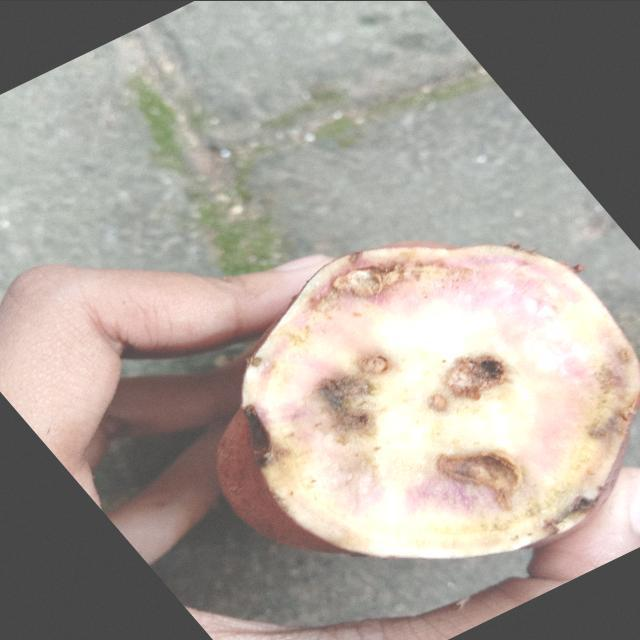Sick Sweet Potato_Tuber Rot: (218, 244, 638, 558)
